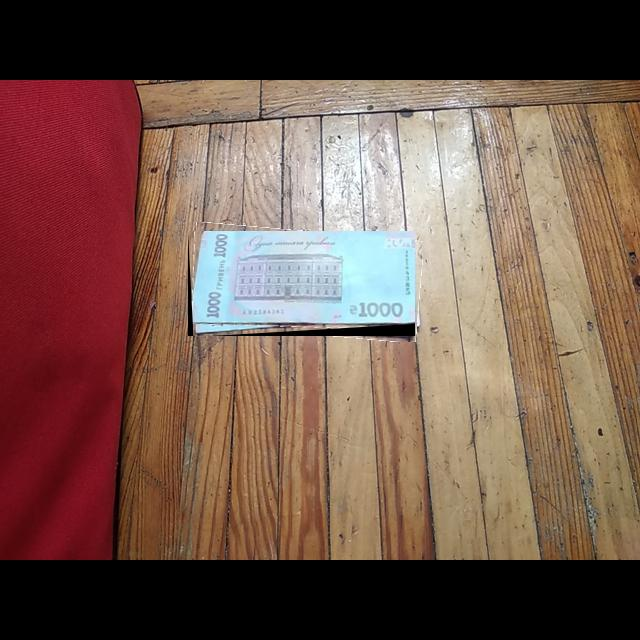1000uah: (193, 231, 416, 327)
